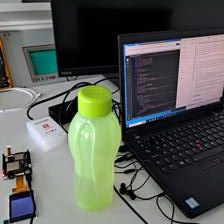bottle: (65, 82, 123, 212)
